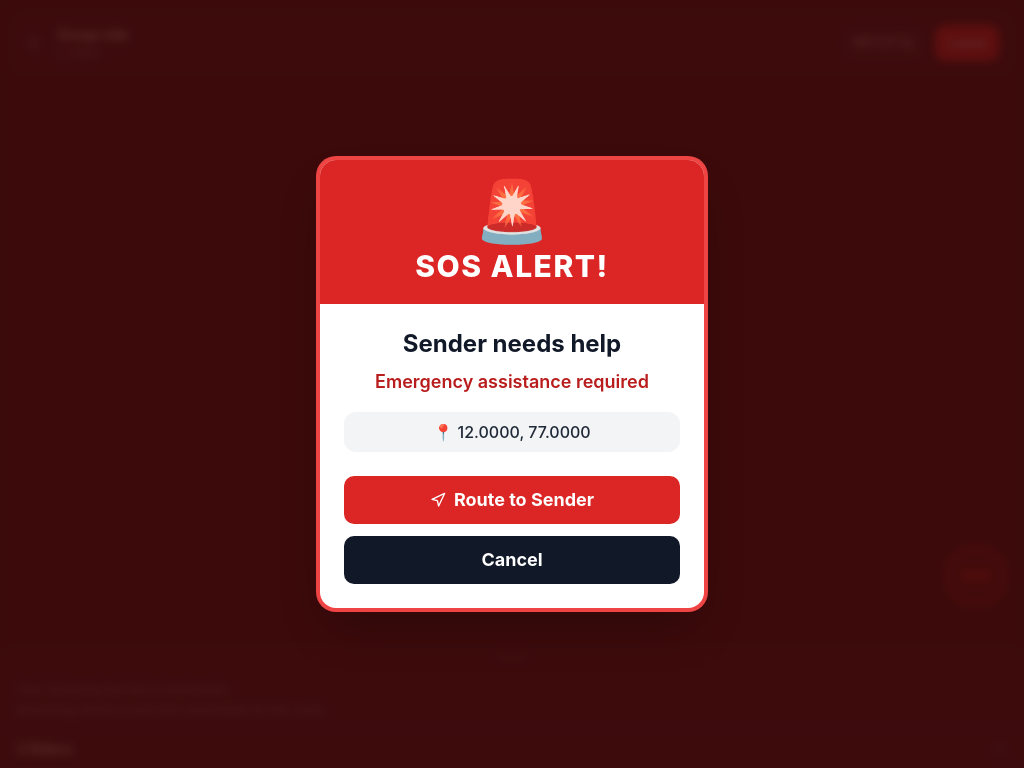
Test: received SOS notifications › keeps a cancelled notification closed without cancelling the sender SOS
Click the button "Cancel". click: (512, 560)
box: 344,536 -> 680,584
Wait 4000 ms
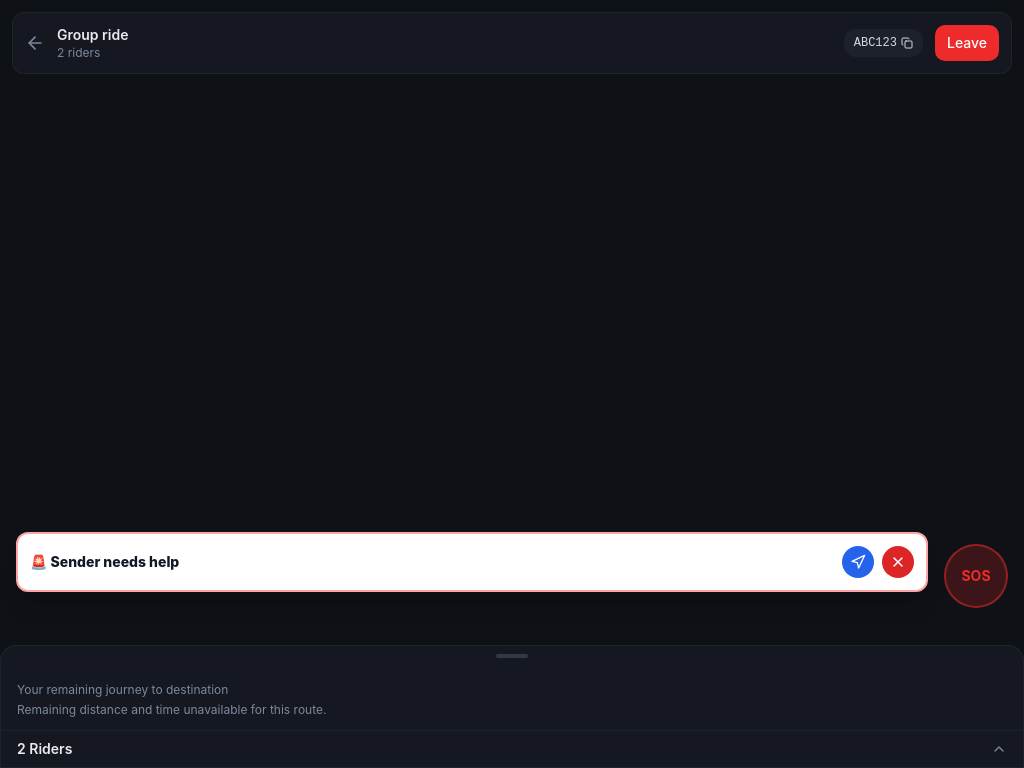
Now the message "🚨 SOS ALERT! Sender needs help Emergency assistance required 📍 12.0000, 77.000" is gone
